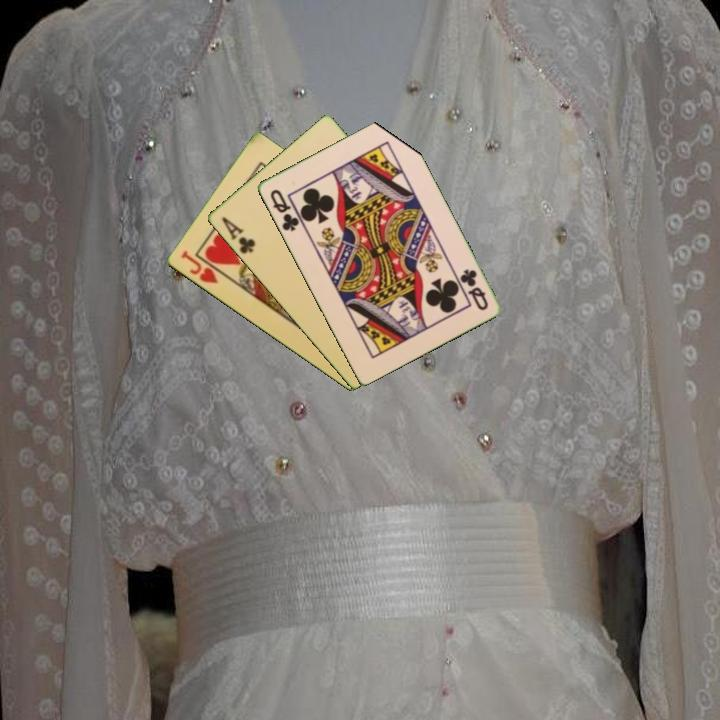Ac: (218, 213, 258, 257)
Jh: (177, 247, 229, 287)
Qc: (266, 185, 302, 234), (456, 265, 491, 313)
